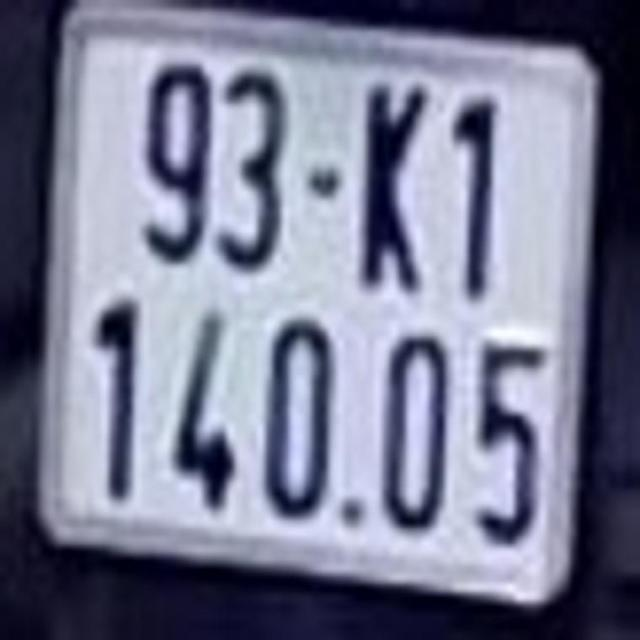0: (258, 307, 334, 520), (379, 328, 450, 533)
1: (84, 293, 148, 504), (447, 88, 502, 301)
3: (216, 63, 286, 274)
4: (168, 302, 242, 514)
5: (473, 335, 548, 547)
9: (139, 58, 211, 265)
K: (359, 73, 428, 297)
